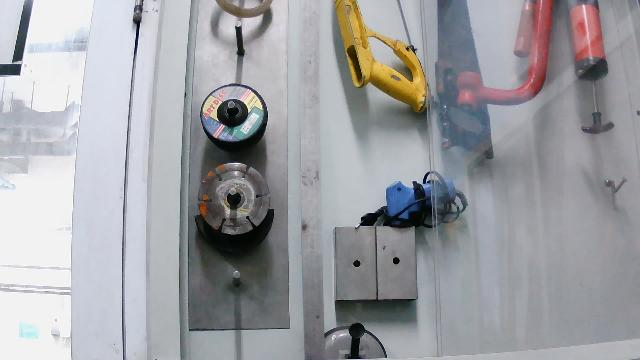solder_electrical: (350, 170, 469, 233)
